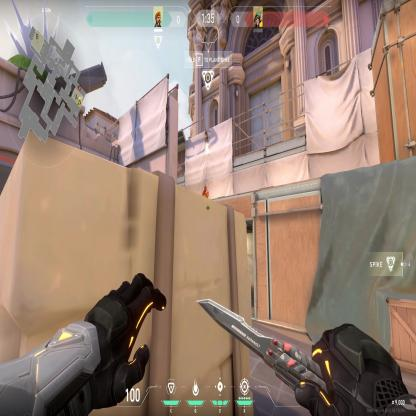enemy: (202, 183, 208, 199)
